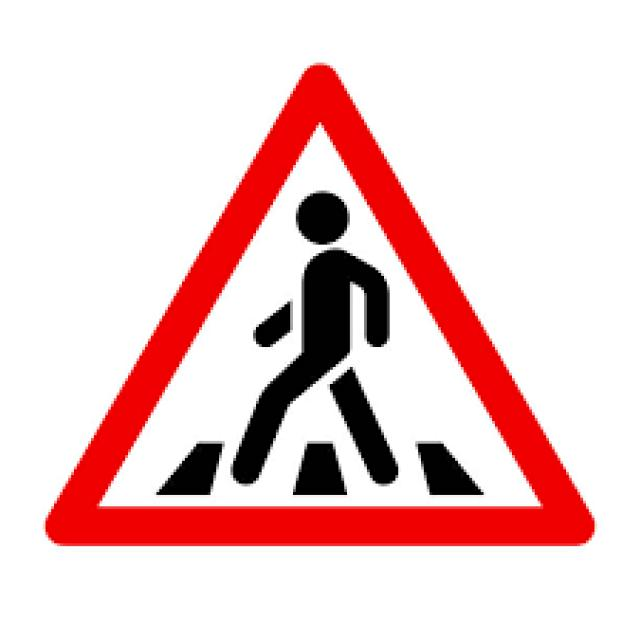Attention-Passage-Pieton: (38, 35, 614, 571)
